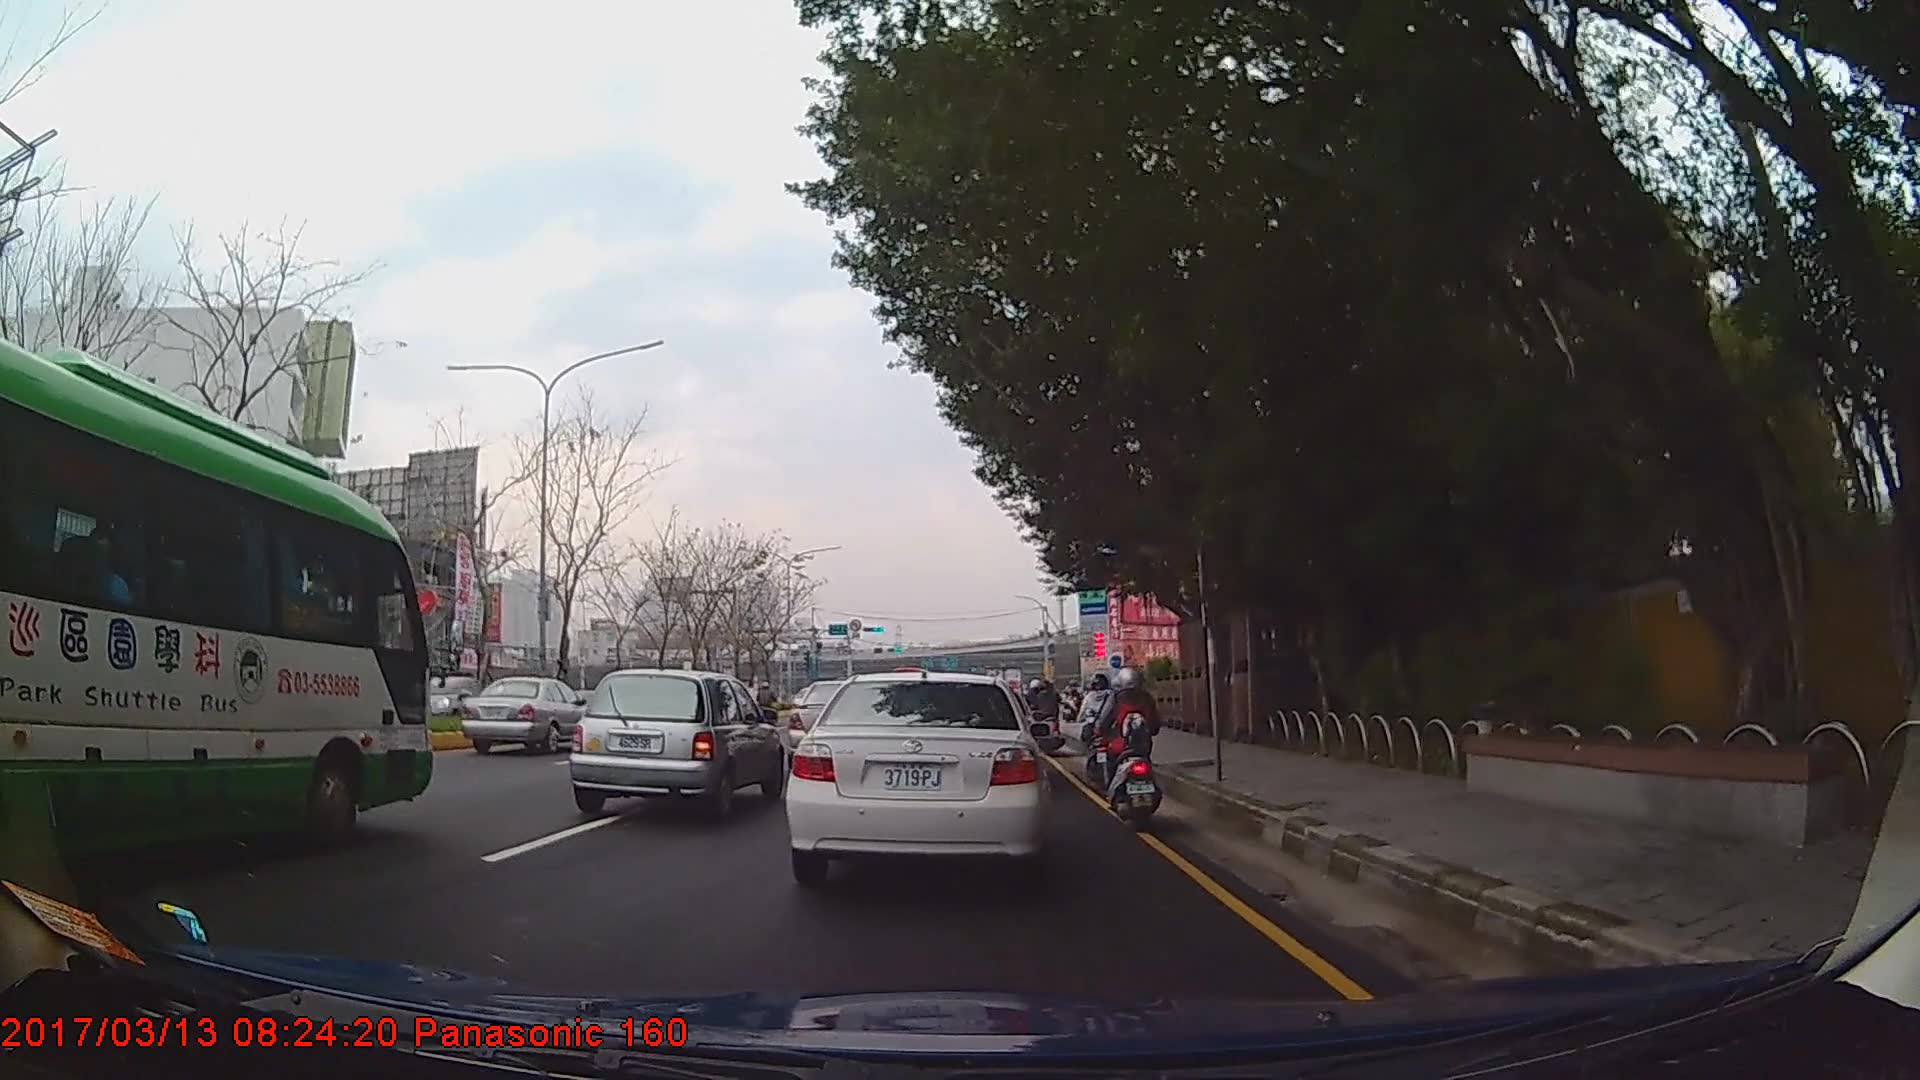rider: (1104, 661, 1164, 820), (1078, 673, 1123, 792), (1034, 676, 1061, 737)
vehicle: (0, 333, 431, 894), (783, 669, 1048, 882), (568, 666, 785, 819), (460, 673, 595, 755), (411, 671, 486, 728)
